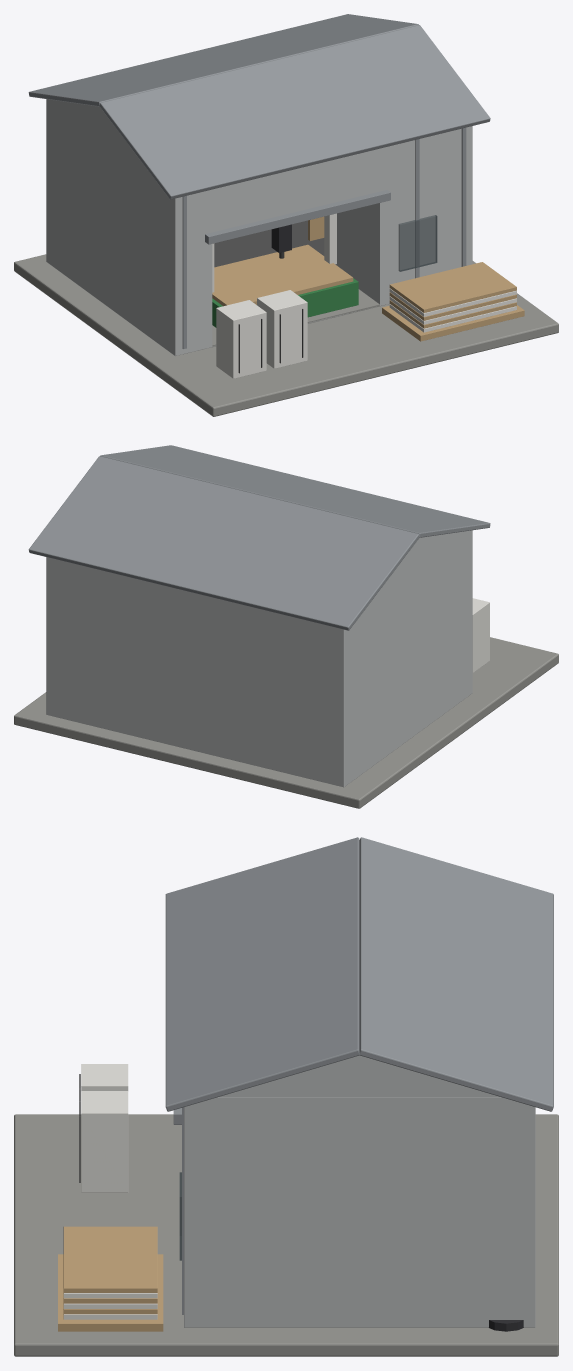
File: cnc.glb
The picture shows the model from 3 angles, top to bottom: view 1: azimuth 30°, elevation 25°; view 2: azimuth 150°, elevation 25°; view 3: azimuth 270°, elevation 25°; orthographic projection. The views are drawn at different scales.
Visible parts, largest first — view 1: Alin; view 2: Alin; view 3: Alin.
Part boxes in pixels (x1,y1,x2,y2): Alin: (14, 14, 558, 416); Alin: (14, 445, 558, 808); Alin: (14, 837, 558, 1356).
Bounding box in the file's own units: 1 × 0.6049 × 1.
